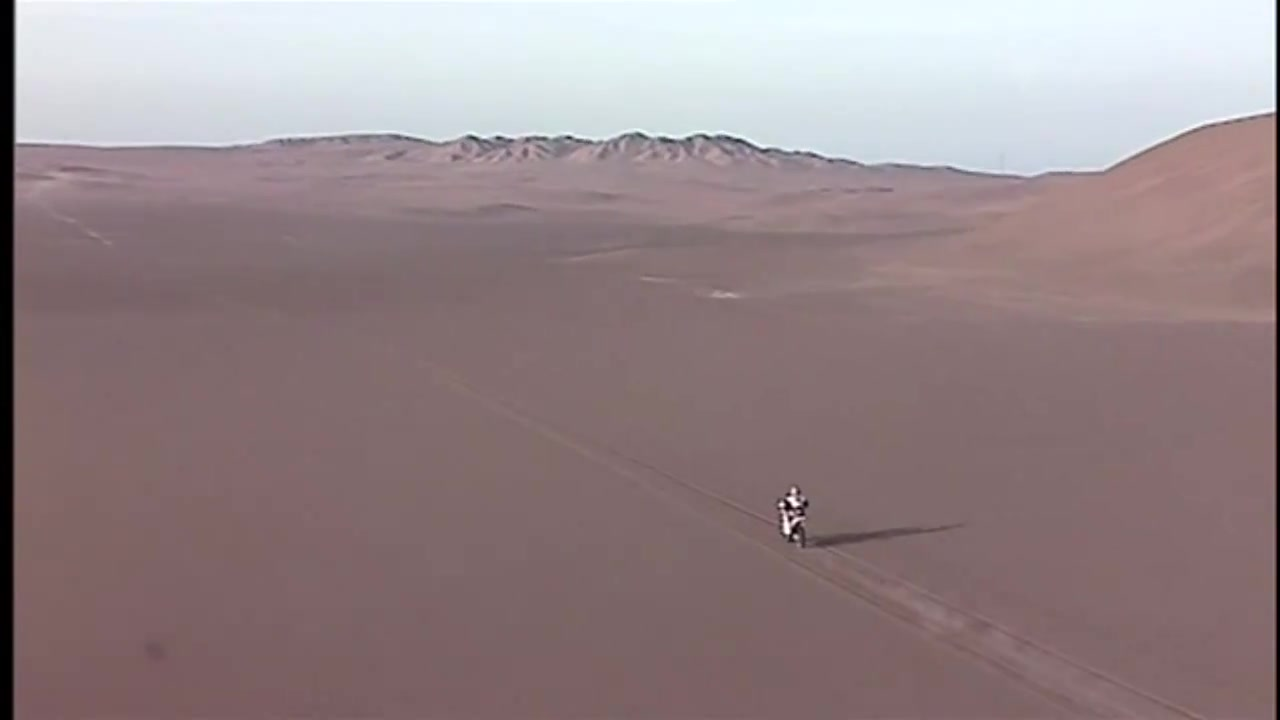motorbike: (774, 500, 814, 546)
